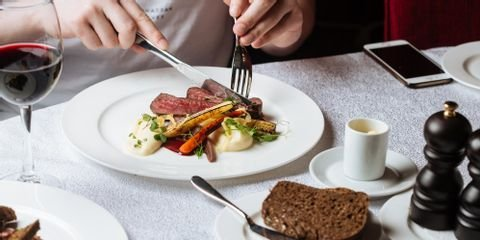salad: (191, 175, 286, 240)
